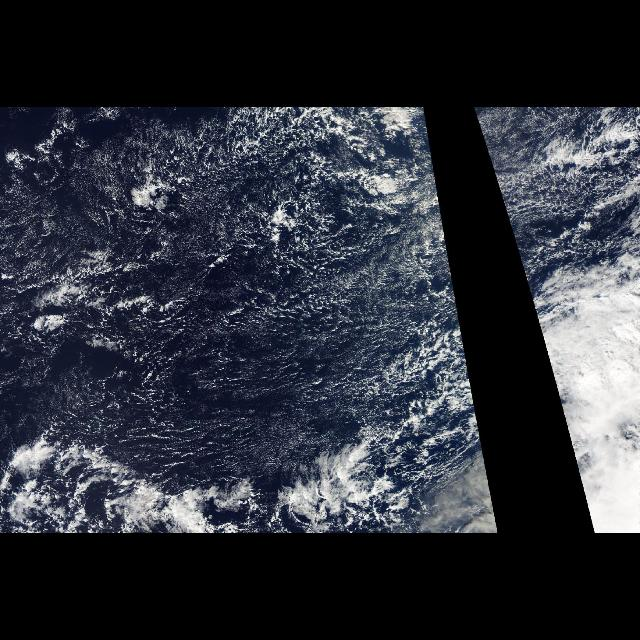Sugar: (6, 113, 484, 447), (473, 112, 495, 178)
